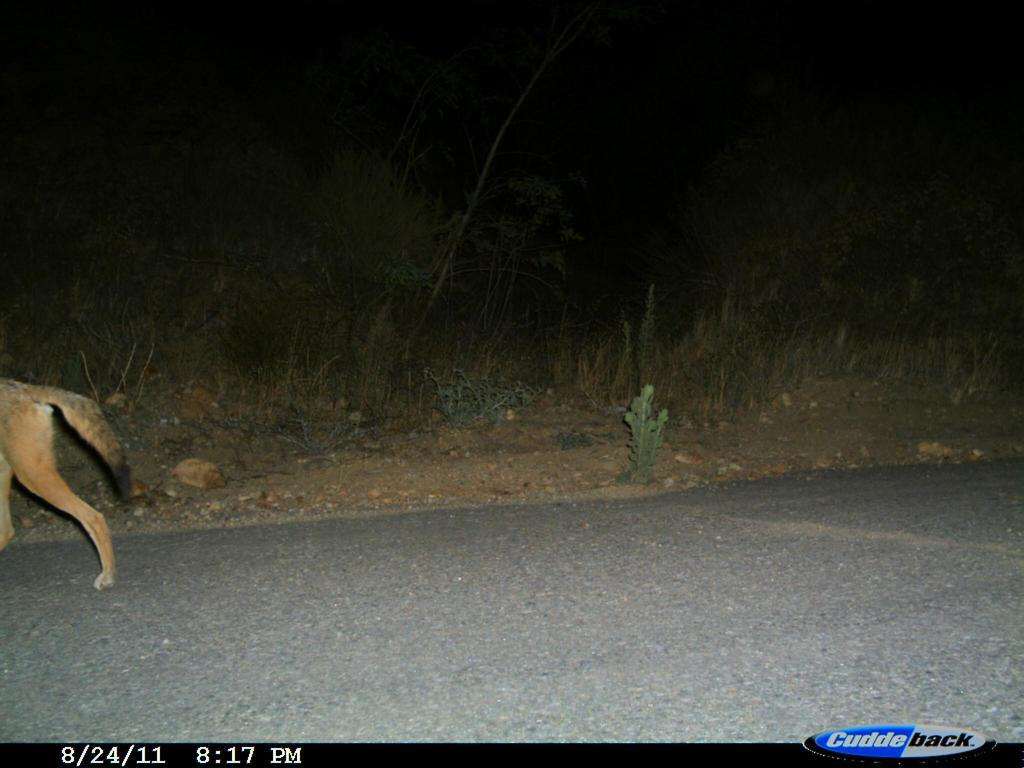coyote: (6, 378, 153, 592)
